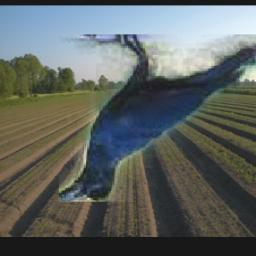Crow: (58, 35, 256, 203)
